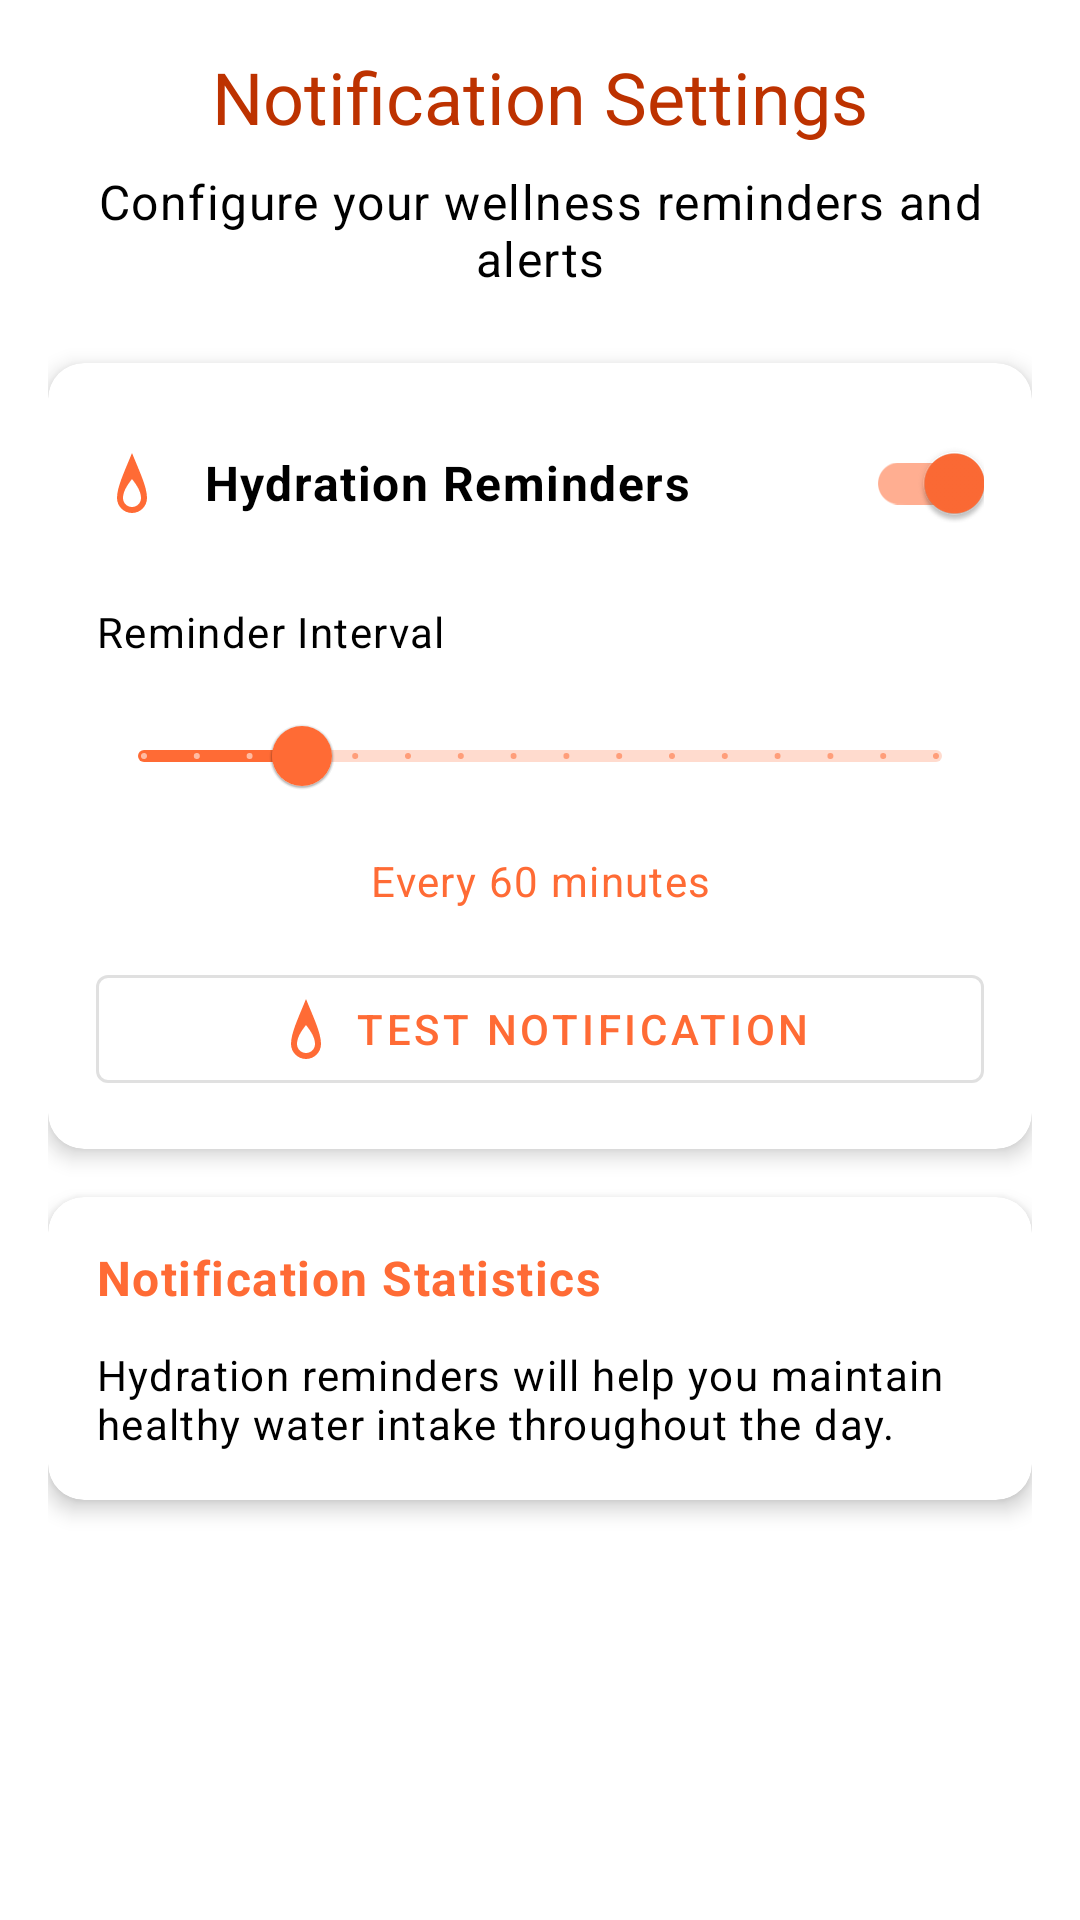

Icon click points for this 1080x1920 phone screenshot, format (x,y):
water drop: (132,483)
